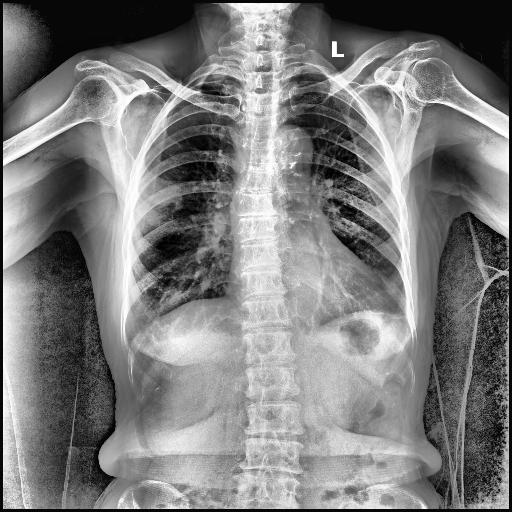0- Aortic enlargement: (270, 124, 314, 184), (270, 124, 314, 176), (278, 126, 314, 168)
11- Pleural thickening: (184, 74, 228, 90), (192, 69, 228, 87), (399, 314, 416, 350), (192, 73, 230, 87)
13- Pulmonary fibrosis: (335, 124, 349, 146), (394, 310, 406, 318)
2- Calcification: (290, 146, 304, 168)
3- Cardiomegaly: (223, 267, 387, 323), (228, 254, 384, 312), (226, 273, 384, 319)
7- Lung Opacity: (149, 182, 187, 210), (140, 184, 182, 206)
8- Nodule-Mass: (387, 282, 399, 298)
